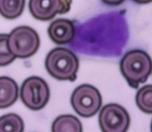M: (65, 1, 136, 60)
